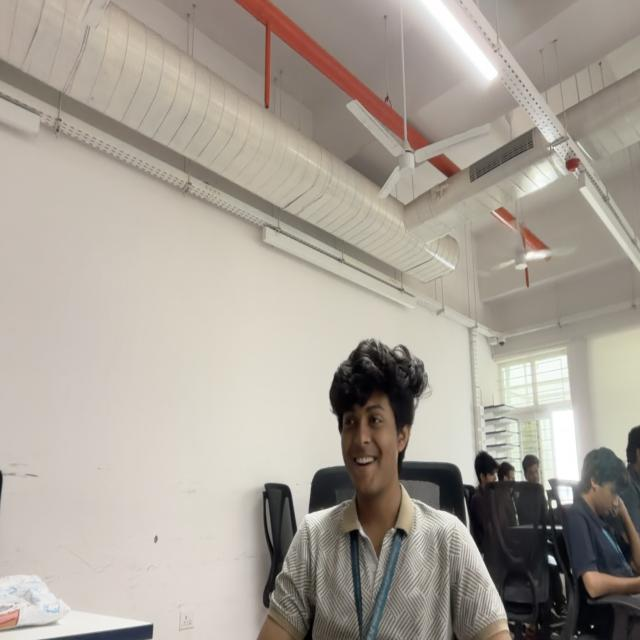kshitij: (328, 336, 428, 500)
